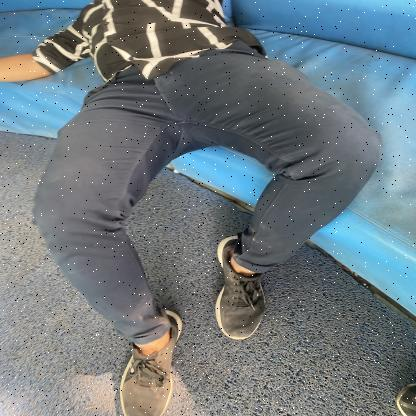leg: (34, 242, 203, 416), (192, 171, 339, 362)
